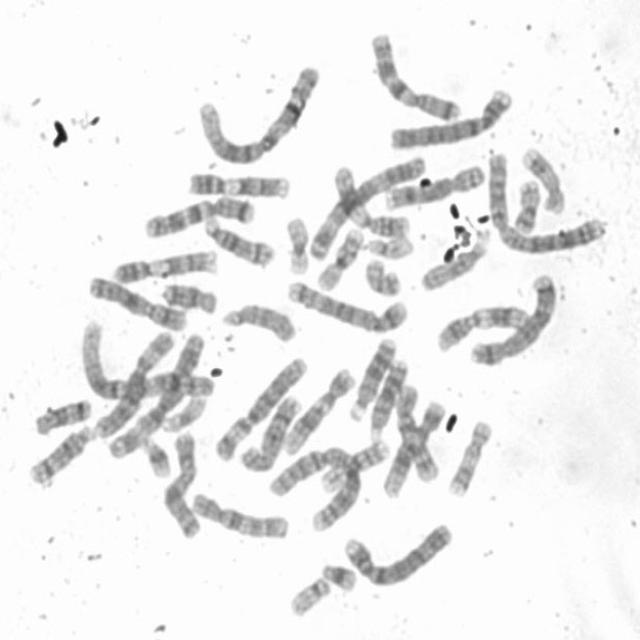A1: (192, 57, 322, 167), (75, 316, 214, 402)
A2: (484, 145, 608, 255), (263, 440, 363, 533)
A3: (99, 323, 209, 463), (307, 149, 431, 262)
B4: (384, 82, 515, 152), (338, 516, 457, 589)
B5: (466, 269, 560, 367), (282, 273, 410, 335)
C10: (185, 486, 291, 541), (392, 379, 442, 485)
C11: (328, 160, 412, 238), (430, 298, 532, 354)
C12: (379, 392, 449, 500), (280, 362, 358, 458)
C6: (210, 351, 310, 462), (89, 324, 177, 444)
C7: (364, 24, 465, 124), (139, 188, 258, 240)
C8: (236, 389, 303, 474), (382, 158, 488, 211)
C9: (108, 243, 221, 286), (183, 165, 294, 202)
D13: (344, 330, 399, 424), (364, 352, 411, 442)
D14: (25, 417, 96, 487), (198, 210, 278, 268)
D15: (416, 225, 494, 292), (217, 296, 299, 344)
E16: (312, 434, 392, 495), (312, 220, 367, 292)
E17: (444, 412, 496, 498), (517, 140, 567, 217)
E18: (30, 394, 92, 436), (158, 276, 220, 314)
F19: (158, 390, 209, 434), (282, 210, 312, 276)
F20: (509, 173, 543, 235), (361, 253, 404, 297)
G21: (137, 430, 174, 480), (316, 556, 361, 594)
G22: (284, 571, 332, 619), (359, 230, 417, 260)
X: (83, 269, 188, 332), (161, 427, 204, 540)
